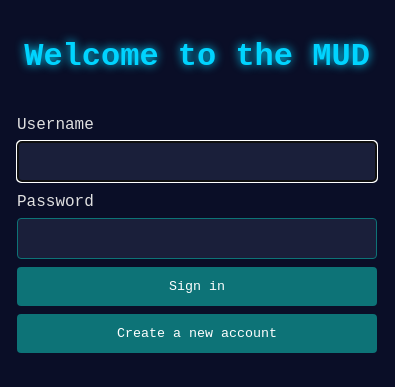
Scenario: Account login › keeps login visible and clears the password on rejection
In the field with test id "username-input": (197, 162) [17,141,377,182], type "Alice"
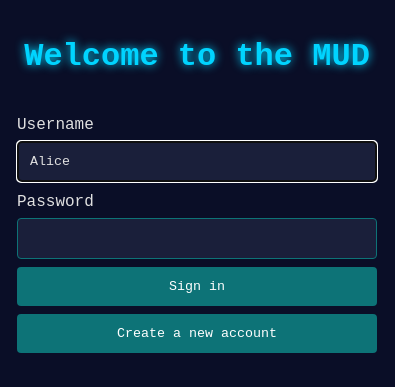
In the password field with test id "password-input": (197, 238) [17,218,377,259], type "A long test-only passphrase1!"
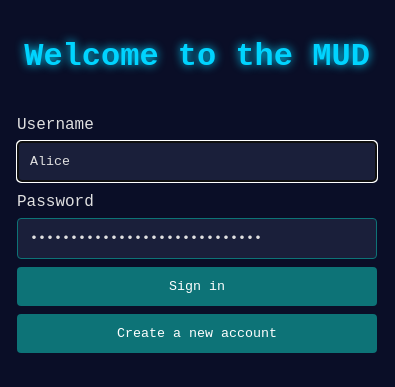
Click the button with test id "login-button": (197, 286) [17,267,377,306]
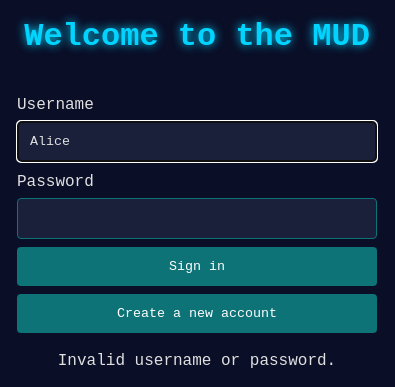
Check: the message reads "Invalid username or password.", box [58,352,336,370]
Check: the password field with test id "password-input" is empty, box [17,198,377,239]
